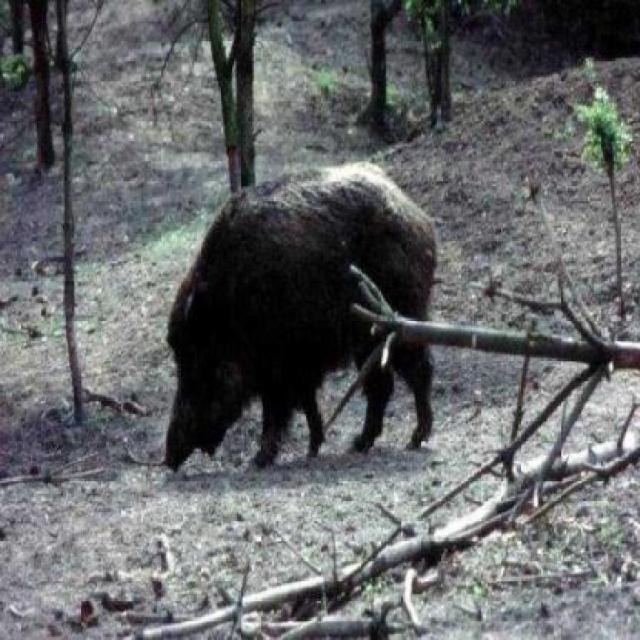Boar: (125, 132, 488, 490)
